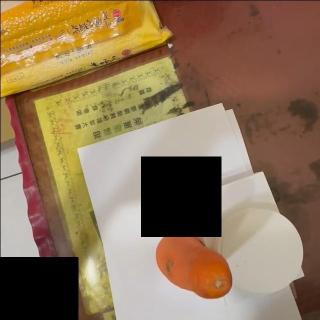carrot: (156, 230, 234, 300)
